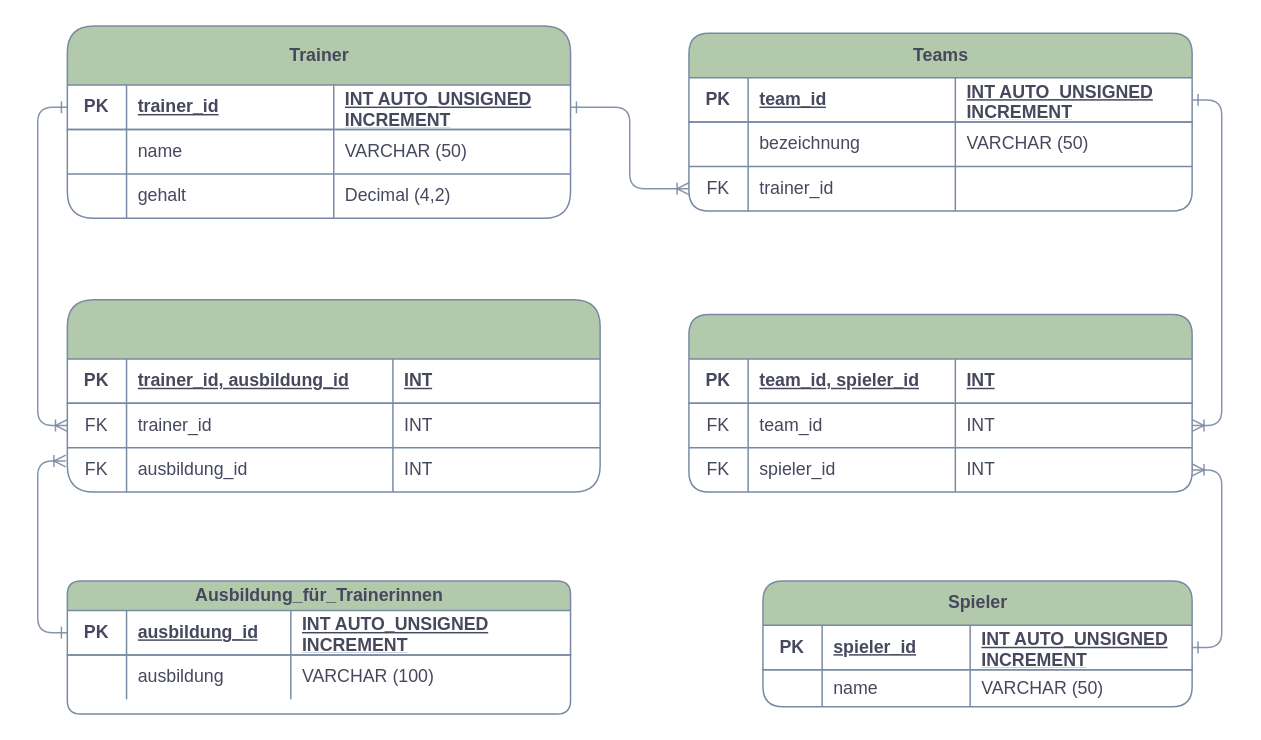
This 1261x740 diagram has some shape labels left out. The shapes that lost their labels are listed below. From the top down, each one's box as (x1, y1, x2, y2) in pixels, then its label:
(66, 298, 600, 492): Trainer-Ausbildung
(687, 313, 1192, 492): Team-Spieler
